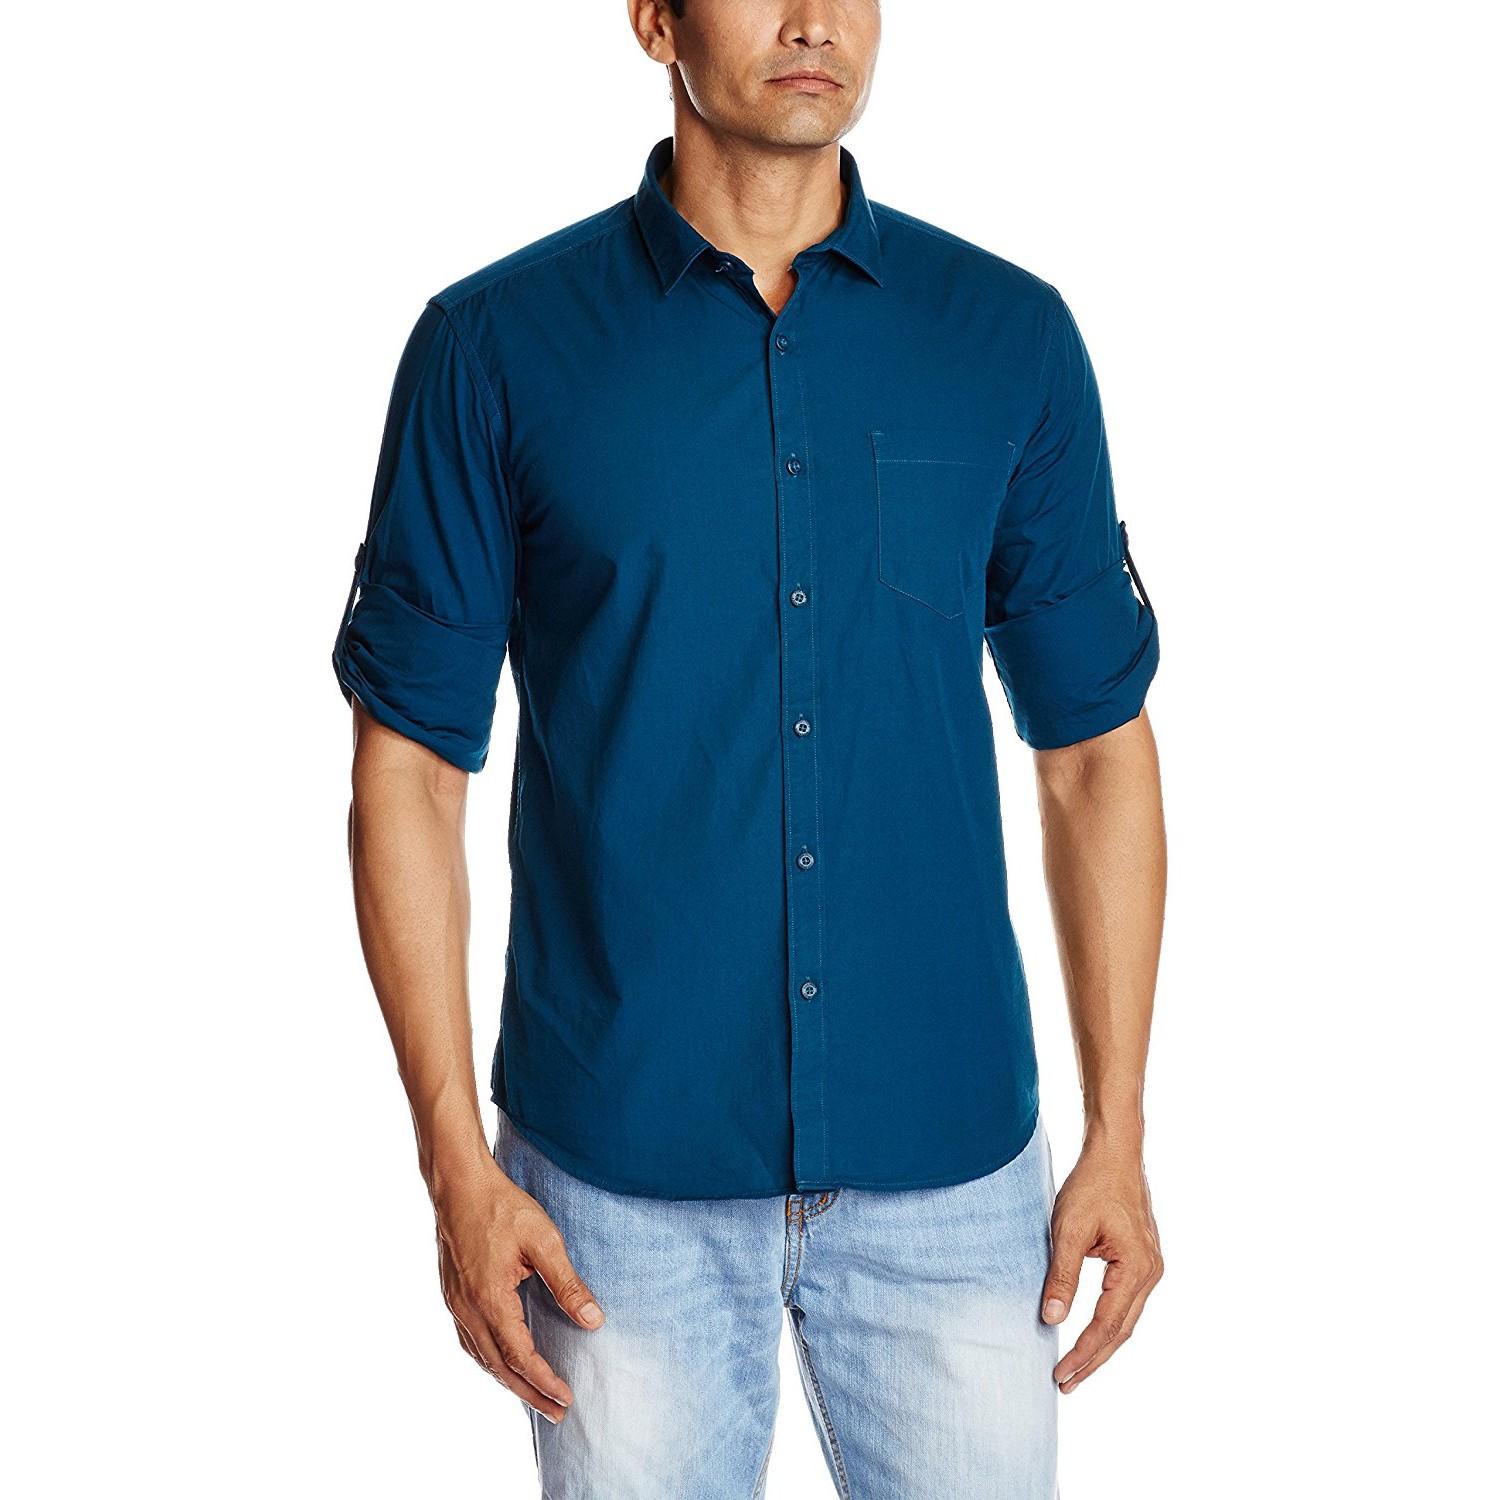Shirt: (317, 103, 1199, 1212)
